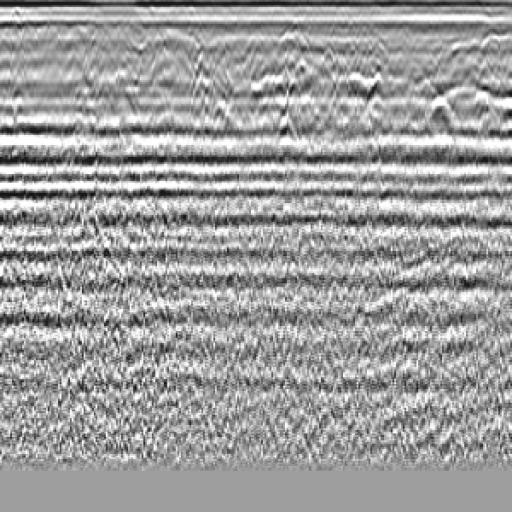metalic: (253, 22, 340, 167)
non-metallic: (49, 27, 119, 115), (176, 39, 235, 120)
